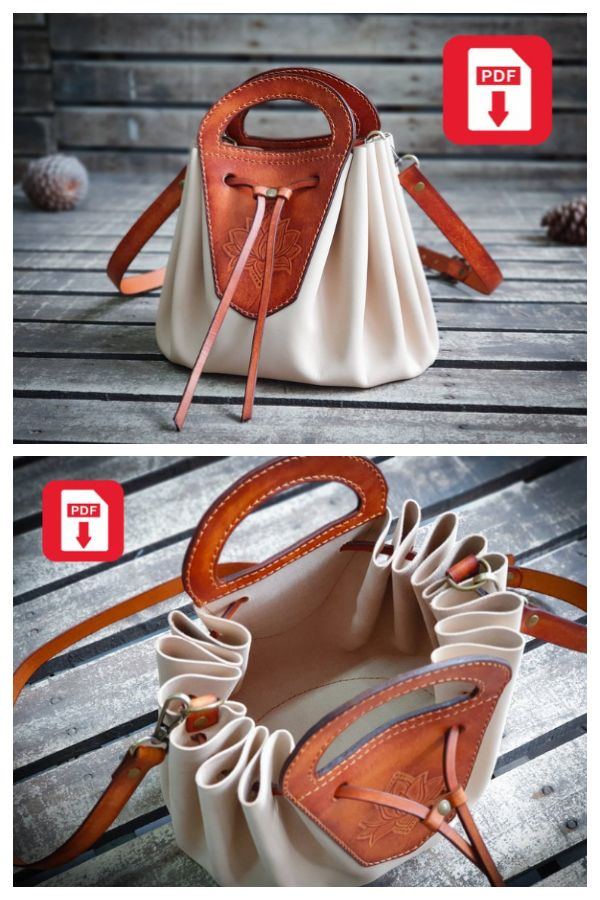cuero: (16, 69, 580, 876)
